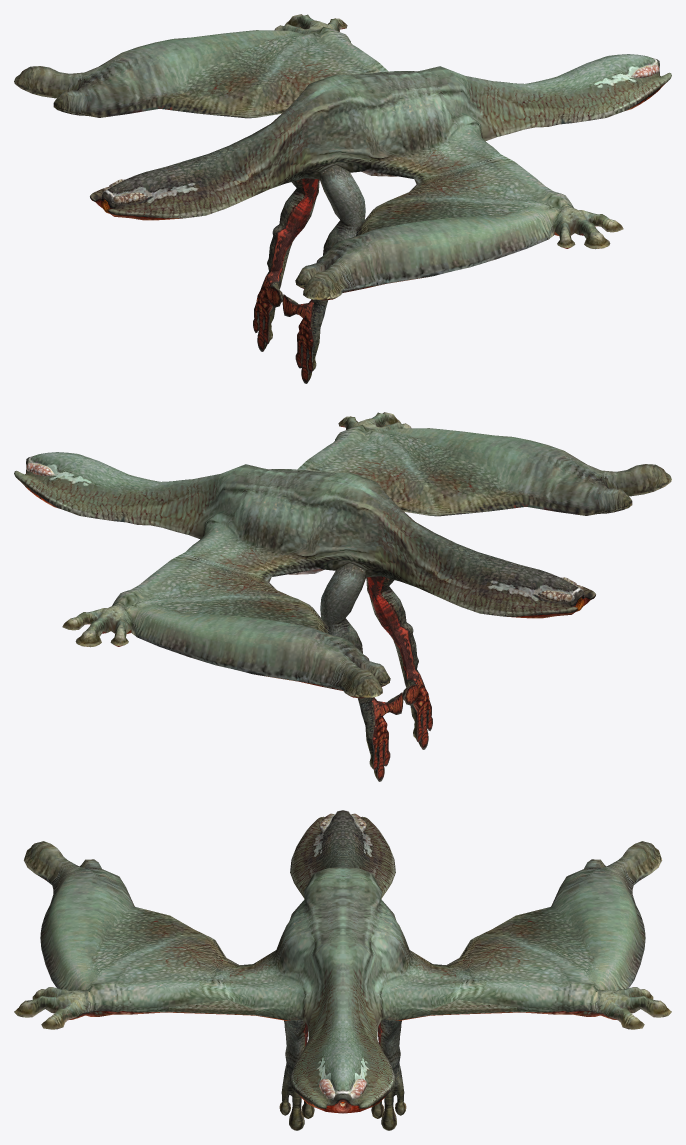
Rendered from gigginox.glb.
3 views of the same model, one above another, from view 1: azimuth 30°, elevation 25°; view 2: azimuth 150°, elevation 25°; view 3: azimuth 270°, elevation 25° (orthographic). The views are drawn at different scales.
Parts seen in each view (by area): view 1: m004_BM_03_Mesh.023, m004_BM_02.003_Mesh.022; view 2: m004_BM_03_Mesh.023, m004_BM_02.003_Mesh.022; view 3: m004_BM_03_Mesh.023, m004_BM_02.003_Mesh.022.
Boxes of the visible parts, x1,y1,x2,y2 form: m004_BM_03_Mesh.023: (14,14,671,383); m004_BM_02.003_Mesh.022: (91,27,667,300); m004_BM_03_Mesh.023: (14,412,671,781); m004_BM_02.003_Mesh.022: (18,425,594,698); m004_BM_03_Mesh.023: (14,810,671,1130); m004_BM_02.003_Mesh.022: (39,876,646,1113).
Size of what is drawn, in the model's own units: 15.61 by 7.19 by 15.01.
2 materials, 2 textured.
